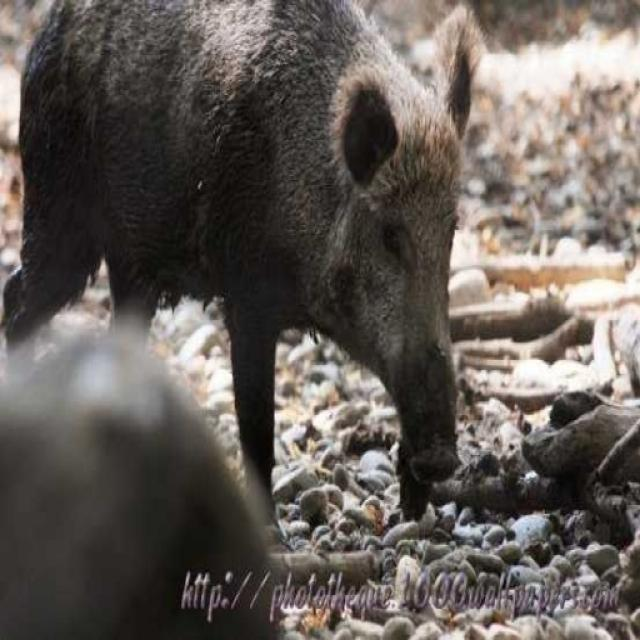pig: (15, 0, 577, 470)
